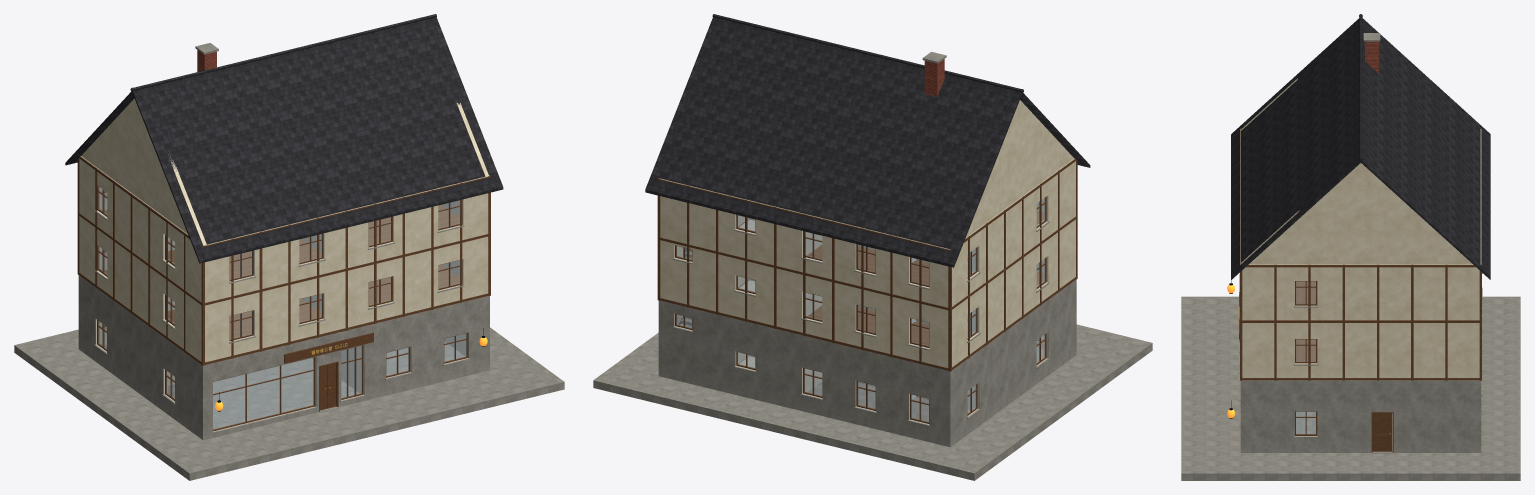
Rendered from b_adventurers_guild.gltf.
3 renders of one model, left to right at view 1: azimuth 30°, elevation 25°; view 2: azimuth 150°, elevation 25°; view 3: azimuth 270°, elevation 25°, orthographic. The views are drawn at different scales.
Visible parts, largest first — view 1: S_adventurers_guild; view 2: S_adventurers_guild; view 3: S_adventurers_guild, D_adventurers_guild_F1_E1_Door0.
Boxes of the visible parts, left/top/right/bottom form: S_adventurers_guild: left=14, top=14, right=564, bottom=480; S_adventurers_guild: left=593, top=14, right=1152, bottom=480; S_adventurers_guild: left=1181, top=14, right=1520, bottom=480; D_adventurers_guild_F1_E1_Door0: left=1372, top=413, right=1392, bottom=451.
Bounding box in the file's own units: 21 × 17.8 × 17.
Materials: 19 (12 with a texture image).
